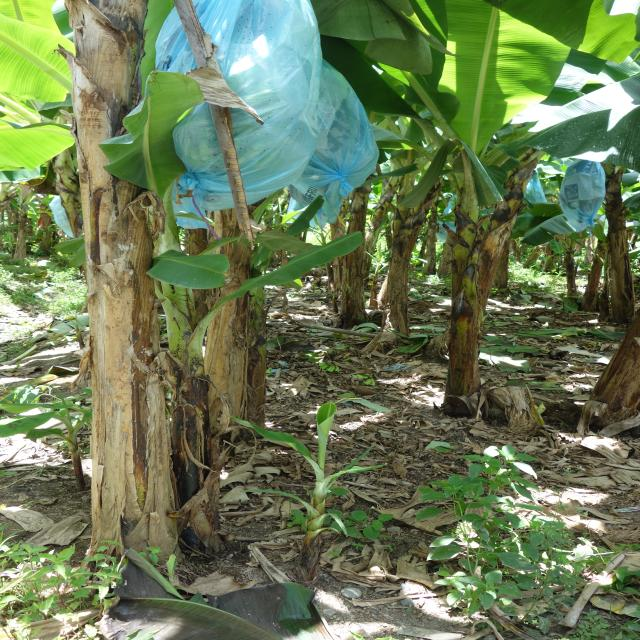Banana-plant: (53, 0, 171, 621), (437, 92, 504, 430), (200, 168, 276, 460)
